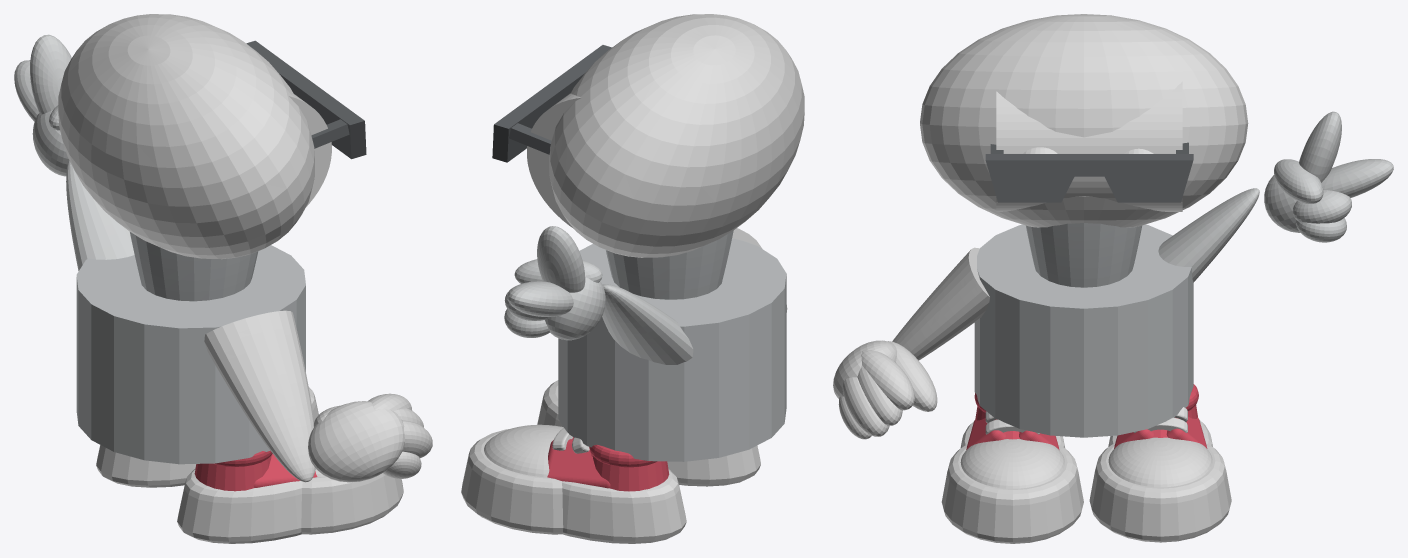
The model's file is Airbot1.glb.
3 views of the same model, side by side, from view 1: azimuth 30°, elevation 25°; view 2: azimuth 150°, elevation 25°; view 3: azimuth 270°, elevation 25° (orthographic). The views are drawn at different scales.
Parts seen in each view (by area): view 1: Mesh_Mesh_head_geo.001_lambert2SG.001; view 2: Mesh_Mesh_head_geo.001_lambert2SG.001; view 3: Mesh_Mesh_head_geo.001_lambert2SG.001.
Boxes of the visible parts, x1=… form: Mesh_Mesh_head_geo.001_lambert2SG.001: x1=14, y1=14, x2=432, y2=543; Mesh_Mesh_head_geo.001_lambert2SG.001: x1=461, y1=14, x2=804, y2=543; Mesh_Mesh_head_geo.001_lambert2SG.001: x1=833, y1=14, x2=1393, y2=543.
Size of the model in its own units: 26.71 by 44.73 by 51.21.
